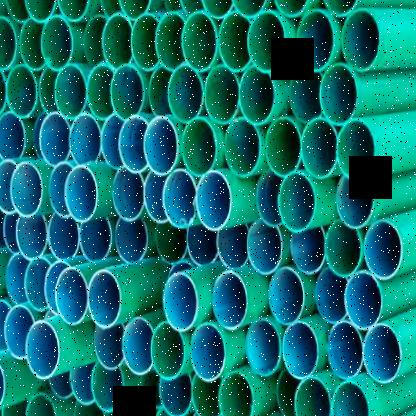pipe: (319, 63, 359, 126), (340, 10, 380, 73), (336, 118, 375, 182), (247, 10, 286, 72), (265, 116, 303, 178), (277, 172, 316, 232), (297, 9, 334, 72), (181, 10, 218, 72), (364, 220, 402, 280), (224, 117, 260, 180), (302, 117, 338, 180), (238, 66, 276, 125), (268, 266, 305, 326), (282, 320, 319, 380), (246, 218, 284, 276), (344, 272, 382, 330), (363, 325, 401, 383), (168, 64, 204, 124), (182, 116, 218, 176), (324, 220, 361, 278), (150, 321, 186, 380), (162, 169, 197, 229), (196, 172, 232, 230), (162, 272, 198, 330), (246, 320, 282, 378), (220, 10, 253, 73), (204, 64, 238, 125), (326, 322, 363, 378), (336, 176, 374, 230), (144, 116, 178, 176), (25, 320, 59, 380), (110, 63, 145, 121), (212, 272, 247, 330), (191, 323, 225, 382), (88, 270, 122, 328), (64, 165, 98, 222), (55, 268, 88, 326), (53, 64, 87, 120), (40, 15, 74, 71), (122, 318, 154, 376), (155, 11, 185, 71), (290, 67, 322, 123), (11, 162, 43, 218), (315, 268, 347, 324), (290, 226, 327, 274), (112, 168, 144, 223), (119, 114, 148, 174), (6, 64, 38, 118), (39, 112, 71, 166), (130, 13, 159, 71), (4, 305, 34, 361), (102, 13, 132, 69), (218, 370, 254, 416), (69, 113, 101, 164), (87, 63, 115, 121), (91, 363, 124, 412), (80, 217, 113, 263), (93, 324, 126, 370), (24, 256, 51, 312), (256, 169, 282, 227), (294, 377, 332, 416), (19, 18, 46, 72), (160, 374, 194, 416), (49, 213, 79, 260), (217, 225, 249, 269), (45, 260, 71, 314), (330, 381, 370, 416), (116, 218, 147, 263), (155, 222, 188, 264), (148, 66, 175, 117), (16, 215, 47, 259), (192, 372, 223, 416), (49, 160, 72, 218), (187, 226, 219, 266), (0, 111, 26, 160), (102, 114, 124, 170), (84, 15, 108, 65), (6, 252, 29, 304), (69, 362, 95, 406), (0, 158, 19, 214), (276, 368, 298, 416), (0, 14, 17, 70), (139, 374, 165, 410), (56, 0, 90, 23), (25, 391, 56, 416), (24, 0, 56, 23), (117, 0, 151, 21), (230, 0, 269, 18), (321, 0, 360, 17), (272, 0, 310, 17), (199, 0, 233, 19), (4, 0, 31, 22), (48, 376, 74, 398), (74, 399, 104, 416), (2, 398, 30, 416), (118, 403, 152, 416), (98, 0, 123, 17), (177, 0, 202, 16), (162, 0, 184, 13)
